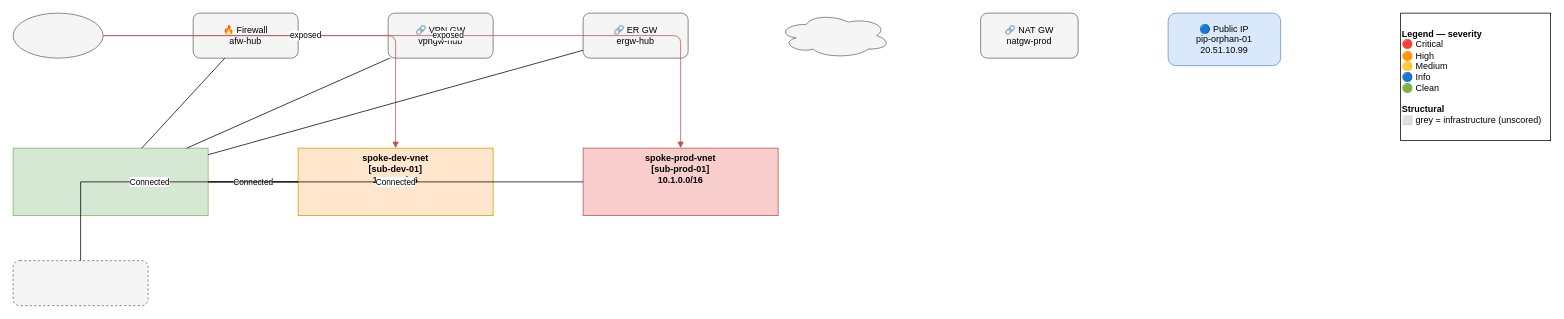
Some shapes in this 1564 by 319 pixel diagram are drawn without their labels. The centre of each missing label's shape, as x and y in pixels:
ExpressRoute er-circuit-att: the point at 834,35
hub-vnet [sub-connectivity-01] 10.0.0.0/16: the point at 110,181
↗ remote-shared-vnet (outside scope): the point at 80,283
🌐 Internet: the point at 57,35
